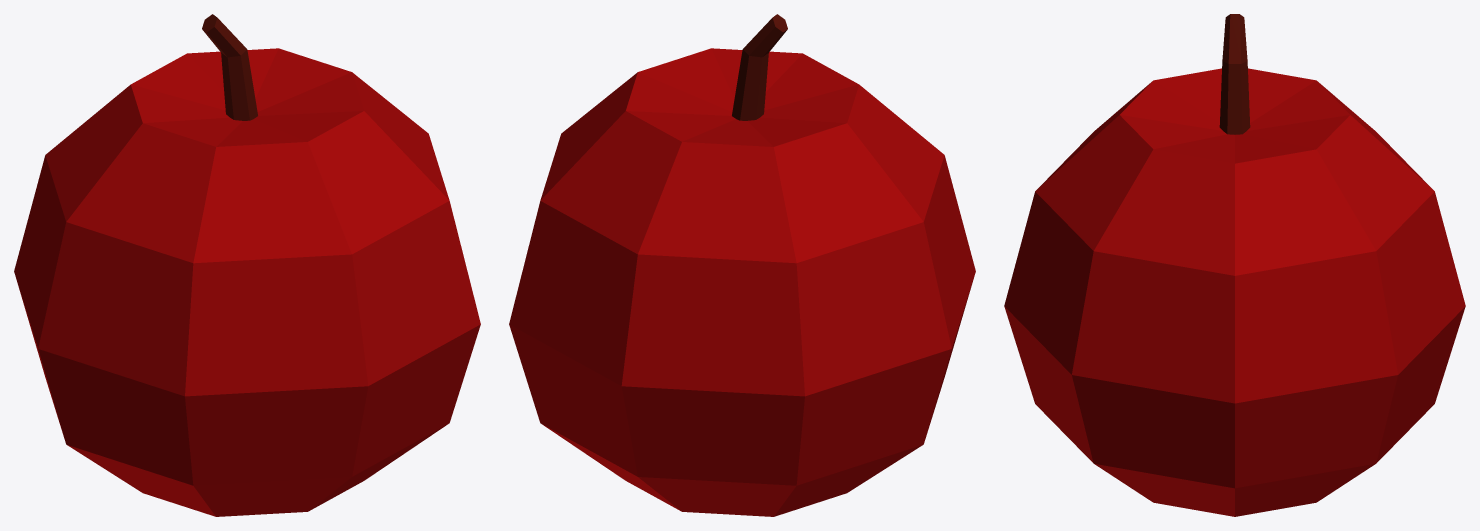
File: Maca.fbx
3 views of the same model, side by side, from view 1: azimuth 30°, elevation 25°; view 2: azimuth 150°, elevation 25°; view 3: azimuth 270°, elevation 25° (orthographic). The views are drawn at different scales.
Parts seen in each view (by area): view 1: Maca; view 2: Maca; view 3: Maca.
Part boxes in pixels (bbox=[...]): Maca: bbox=[14, 14, 480, 516]; Maca: bbox=[509, 14, 975, 516]; Maca: bbox=[1004, 14, 1465, 516].
Bounding box in the file's own units: 16.26 × 17.15 × 16.26.
